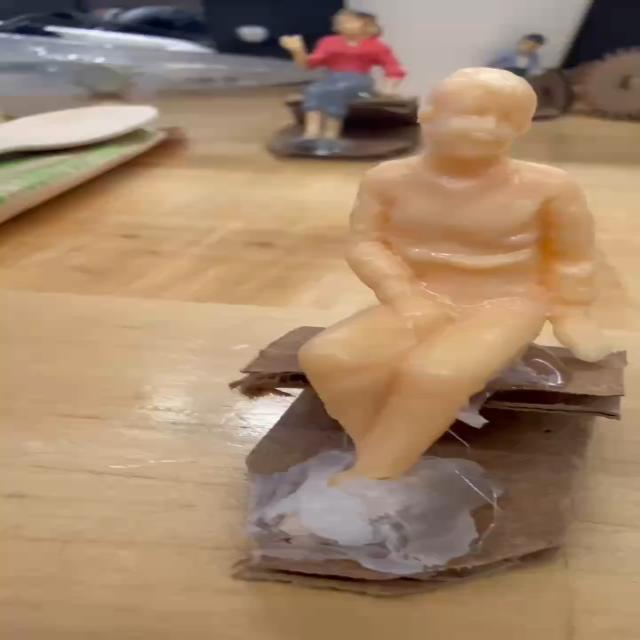Unauthorized: (293, 56, 610, 562)
